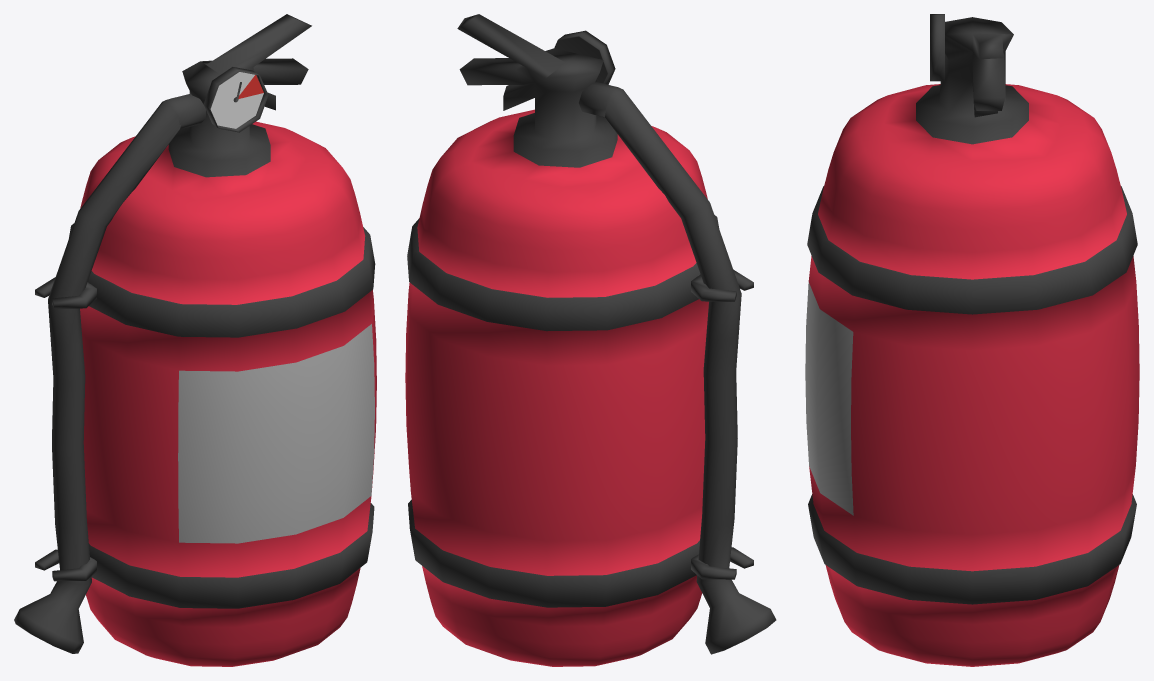
Rendered from FireHydrant.fbx.
The picture shows the model from 3 angles, left to right: view 1: azimuth 30°, elevation 25°; view 2: azimuth 150°, elevation 25°; view 3: azimuth 270°, elevation 25°; orthographic projection. The views are drawn at different scales.
Parts seen in each view (by area): view 1: FireHydrant, Hose, Gauge, Hooks; view 2: FireHydrant, Hose, Hooks, Gauge; view 3: FireHydrant, Gauge.
Boxes of the visible parts, <box> form: FireHydrant: <box>69,14,376,666</box>; Hose: <box>14,93,205,653</box>; Gauge: <box>203,67,268,132</box>; Hooks: <box>35,277,96,581</box>; FireHydrant: <box>405,14,719,666</box>; Hose: <box>579,81,776,654</box>; Hooks: <box>691,269,753,579</box>; Gauge: <box>554,30,615,84</box>; FireHydrant: <box>805,17,1139,666</box>; Gauge: <box>930,14,944,81</box>.
Bounding box in the file's own units: 293 × 489 × 236.
